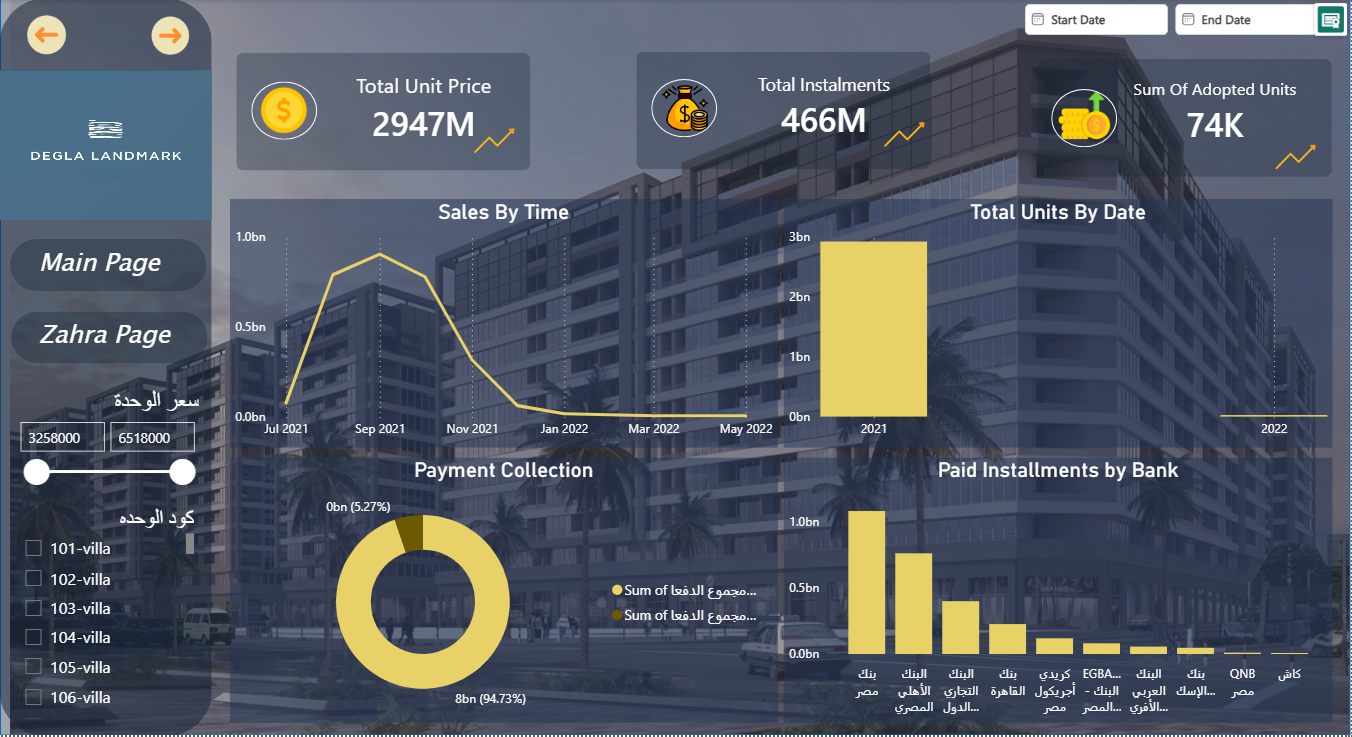

The page's visual inventory and layout, read from the dashboard file:
{"tool":"powerbi","page":{"name":"Degla_Landmark","canvas":[1322,720],"ordinal":1},"visuals":[{"type":"image","box":[10,0,1312,720.5],"z":0},{"type":"shape","box":[0,0,1322,720.5],"z":1000},{"type":"shape","box":[0,0,207.1,720.5],"z":2000},{"type":"shape","box":[0,69.4,192.2,143.9],"z":3000},{"type":"image","box":[0,69.4,207.1,146.3],"z":4000},{"type":"shape","box":[9.9,234.4,192.2,50.8],"z":5000},{"type":"shape","box":[11.2,306.3,192.2,50.8],"z":6000},{"type":"image","box":[19.8,12.4,52.1,45.9],"z":7000},{"type":"textbox","box":[33.5,234.4,150.1,57],"z":8000},{"type":"textbox","box":[33.5,306.3,150.1,57],"z":9000},{"type":"slicer","title":"سعر الوحدة","fields":{"Values":["Degla Landmark.سعر الوحدة"]},"box":[7.4,380.7,192.2,115.3],"z":10000},{"type":"shape","box":[230.7,52.1,287.7,115.3],"z":11000},{"type":"Datepicker_1687358625","fields":{"categories":["Degla Landmark.Date"]},"box":[998.3,0,323.7,50],"z":12000},{"type":"slicer","title":"كود الوحده","fields":{"Values":["Degla Landmark.كود الوحدة"]},"box":[12.4,496.1,182.3,212.1],"z":13000},{"type":"shape","box":[622.6,50.8,287.7,115.3],"z":14000},{"type":"shape","box":[1014.4,58.3,288,115.3],"z":15000},{"type":"cardVisual","fields":{"Data":["Degla Landmark.Total_Unit_Price"]},"box":[310,58.3,208.3,95.5],"z":16000},{"type":"cardVisual","fields":{"Data":["Degla Landmark.Total_Installments_Due"]},"box":[701.9,57,208.3,95.5],"z":17000},{"type":"cardVisual","fields":{"Data":["Sum(MorshedyAdvertisedUnitsTable.Adopted Total Units)"]},"box":[1076.5,62,225.7,95.5],"z":18000},{"type":"image","box":[644.9,84.3,50.8,44.6],"z":19000},{"type":"image","box":[240.6,80.6,73.2,55.8],"z":20000},{"type":"image","box":[1028.1,88.1,64.5,50.8],"z":21000},{"type":"shape","box":[245.5,80.6,64.5,57],"z":22000},{"type":"shape","box":[637.4,78.1,64.5,57],"z":23000},{"type":"shape","box":[1028.1,88.1,64.5,57],"z":24000},{"type":"image","box":[448.9,116.6,69.4,44.6],"z":25000},{"type":"image","box":[849.5,110.4,69.4,44.6],"z":26000},{"type":"image","box":[1232.7,131.5,69.4,44.6],"z":27000},{"type":"lineChart","title":"Sales By Time","fields":{"Y":["Sum(Degla Landmark.سعر الوحدة)"],"Category":["Degla Landmark.تاريخ عقد البيع.Variation.Date Hierarchy.Year","Degla Landmark.تاريخ عقد البيع.Variation.Date Hierarchy.Month"]},"box":[224.5,195.9,535.7,243.1],"z":28000},{"type":"columnChart","title":"Total Units By Date","fields":{"Y":["Degla Landmark.Total_Unit_Price"],"Category":["Degla Landmark.تاريخ عقد البيع.Variation.Date Hierarchy.Year"]},"box":[766.4,195.9,537,243.1],"z":29000},{"type":"donutChart","title":"Payment Collection","fields":{"Y":["Sum(Degla Landmark.مجموع الدفعات المدفوعة)","Sum(Degla Landmark.مجموع الدفعات المستحقة)"]},"box":[224.5,448.9,535.7,259.2],"z":30000},{"type":"columnChart","title":"Paid Installments by Bank","fields":{"Y":["Sum(Degla Landmark.مجموع الدفعات المدفوعة)"],"Category":["Degla Landmark.البنك"]},"box":[766.4,448.9,537,259.2],"z":31000},{"type":"image","box":[140.1,13.6,52.1,44.6],"z":32000}]}

Visuals, with their boxes in screenshot pixels (x1, y1, x2, y2), scaled from the page's 1322x720 canvas onto the 1352x737 screenshot:
image: (left=10, top=0, right=1351, bottom=736)
shape: (left=0, top=0, right=1351, bottom=736)
shape: (left=0, top=0, right=212, bottom=736)
shape: (left=0, top=71, right=197, bottom=218)
image: (left=0, top=71, right=212, bottom=221)
shape: (left=10, top=240, right=207, bottom=292)
shape: (left=11, top=314, right=208, bottom=366)
image: (left=20, top=13, right=74, bottom=60)
textbox: (left=34, top=240, right=188, bottom=298)
textbox: (left=34, top=314, right=188, bottom=372)
"سعر الوحدة" slicer: (left=8, top=390, right=204, bottom=508)
shape: (left=236, top=53, right=530, bottom=171)
Datepicker_1687358625 - Degla Landmark.Date: (left=1021, top=0, right=1351, bottom=51)
"كود الوحده" slicer: (left=13, top=508, right=199, bottom=725)
shape: (left=637, top=52, right=931, bottom=170)
shape: (left=1037, top=60, right=1332, bottom=178)
cardVisual - Degla Landmark.Total_Unit_Price: (left=317, top=60, right=530, bottom=157)
cardVisual - Degla Landmark.Total_Installments_Due: (left=718, top=58, right=931, bottom=156)
cardVisual - Sum(MorshedyAdvertisedUnitsTable.Adopted Total Units): (left=1101, top=63, right=1332, bottom=161)
image: (left=660, top=86, right=711, bottom=132)
image: (left=246, top=83, right=321, bottom=140)
image: (left=1051, top=90, right=1117, bottom=142)
shape: (left=251, top=83, right=317, bottom=141)
shape: (left=652, top=80, right=718, bottom=138)
shape: (left=1051, top=90, right=1117, bottom=149)
image: (left=459, top=119, right=530, bottom=165)
image: (left=869, top=113, right=940, bottom=159)
image: (left=1261, top=135, right=1332, bottom=180)
"Sales By Time" lineChart: (left=230, top=201, right=777, bottom=449)
"Total Units By Date" columnChart: (left=784, top=201, right=1333, bottom=449)
"Payment Collection" donutChart: (left=230, top=459, right=777, bottom=725)
"Paid Installments by Bank" columnChart: (left=784, top=459, right=1333, bottom=725)
image: (left=143, top=14, right=197, bottom=60)
